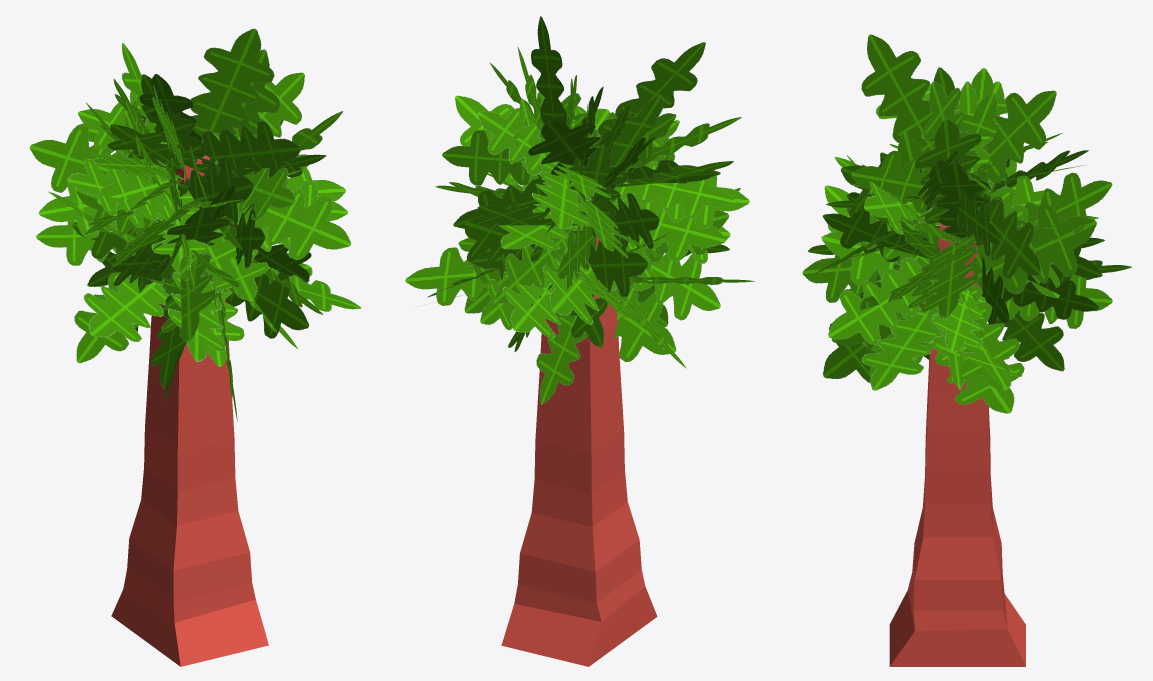
Rendered from tree.fbx.
3 views of the same model, side by side, from view 1: azimuth 30°, elevation 25°; view 2: azimuth 150°, elevation 25°; view 3: azimuth 270°, elevation 25° (orthographic).
Visible parts, largest first — view 1: Leaves_LOD0, TreeBark_LOD0; view 2: Leaves_LOD0, TreeBark_LOD0; view 3: Leaves_LOD0, TreeBark_LOD0.
Part boxes in pixels (<box>): Leaves_LOD0: <box>29,28,361,421</box>; TreeBark_LOD0: <box>111,155,268,666</box>; Leaves_LOD0: <box>405,16,754,404</box>; TreeBark_LOD0: <box>501,236,657,666</box>; Leaves_LOD0: <box>802,34,1131,413</box>; TreeBark_LOD0: <box>889,223,1025,666</box>.
Size of the model in its own units: 117 by 213 by 113.
